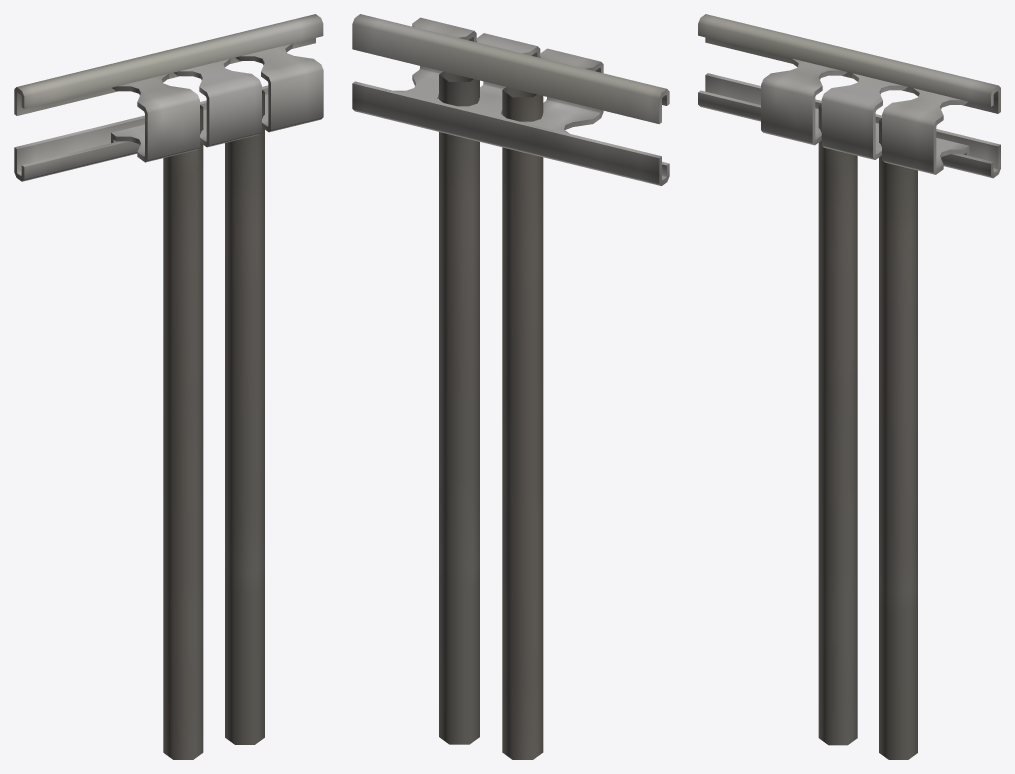
Rendered from wall-cable--5.gltf.
The picture shows the model from 3 angles, left to right: view 1: azimuth 30°, elevation 25°; view 2: azimuth 150°, elevation 25°; view 3: azimuth 330°, elevation 25°; orthographic projection. The views are drawn at different scales.
Parts seen in each view (by area): view 1: cable_double_alt_short; view 2: cable_double_alt_short; view 3: cable_double_alt_short.
Boxes of the visible parts, <box> form: cable_double_alt_short: <box>14,14,323,759</box>; cable_double_alt_short: <box>352,14,669,759</box>; cable_double_alt_short: <box>698,14,1000,759</box>.
Size of the model in its own units: 0.097 by 0.2141 by 0.0221.
1 material, 1 textured.
